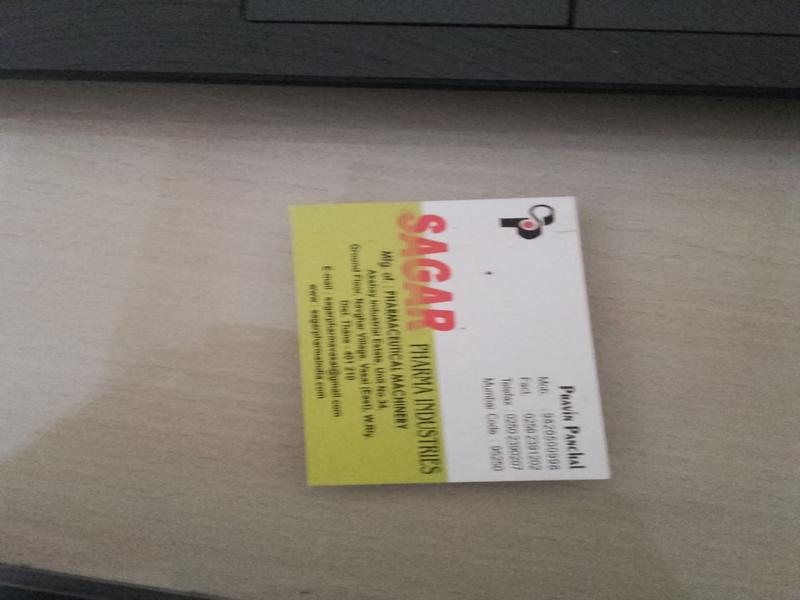card: (288, 198, 608, 492)
